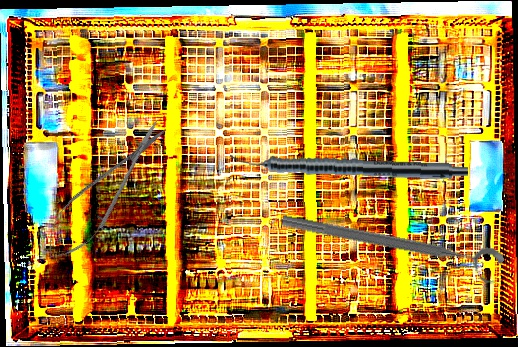Fixation Ring: (277, 207, 506, 288)
Handpiece: (229, 149, 469, 182)
Micro Scissor: (33, 110, 178, 272)
